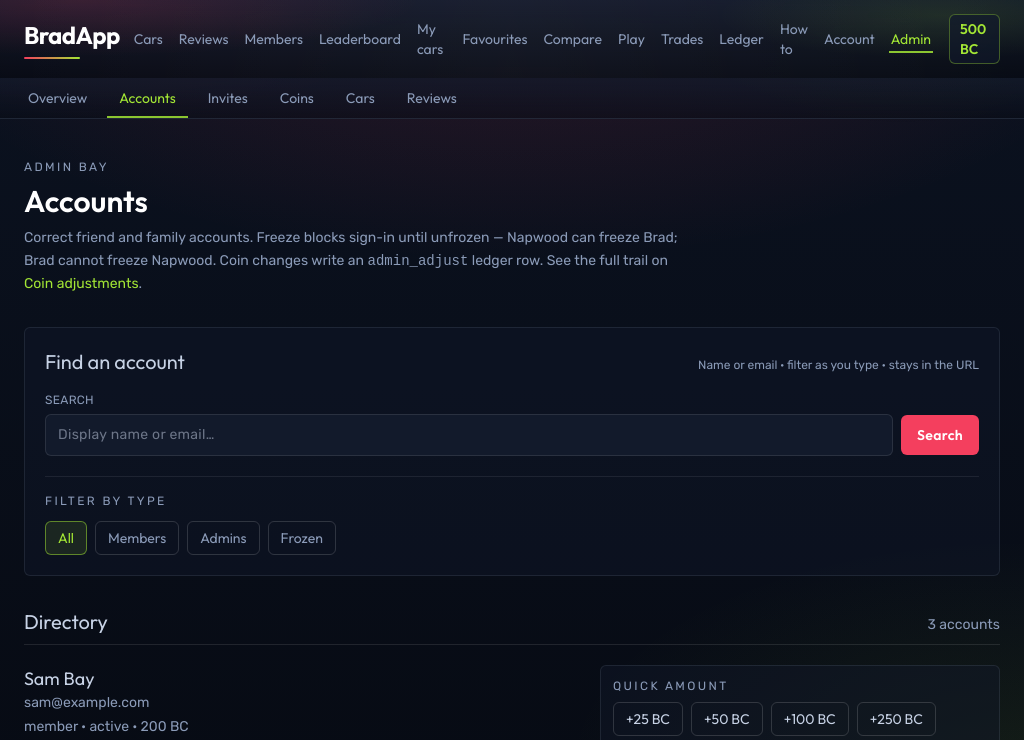
Test: AdminUsersPage accounts search › searches by name/email and filters with type chips
The image size is (1024, 740).
Expected: the heading "Accounts" is shown, [24,182,148,220]
Expected: the heading "Find an account" is shown, [45,348,185,376]
Type "sam" into the search field named "Search accounts by display name or email" at (469,435), box [45,414,893,456]
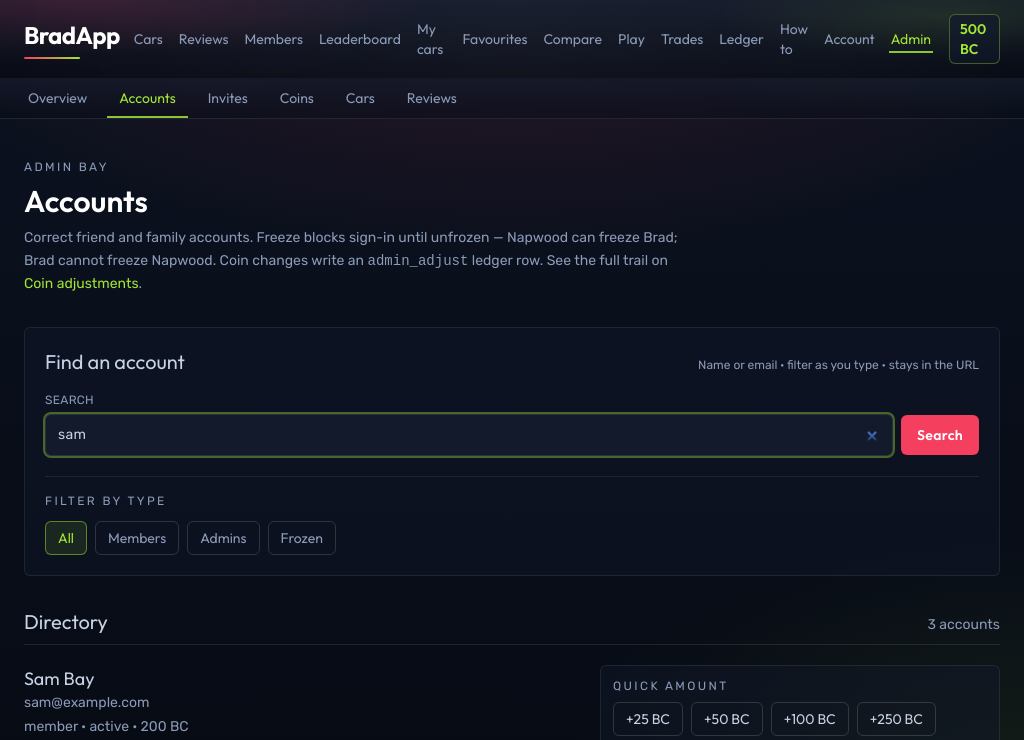
Click the button "Search" at (940,435), box [901,415,979,455]
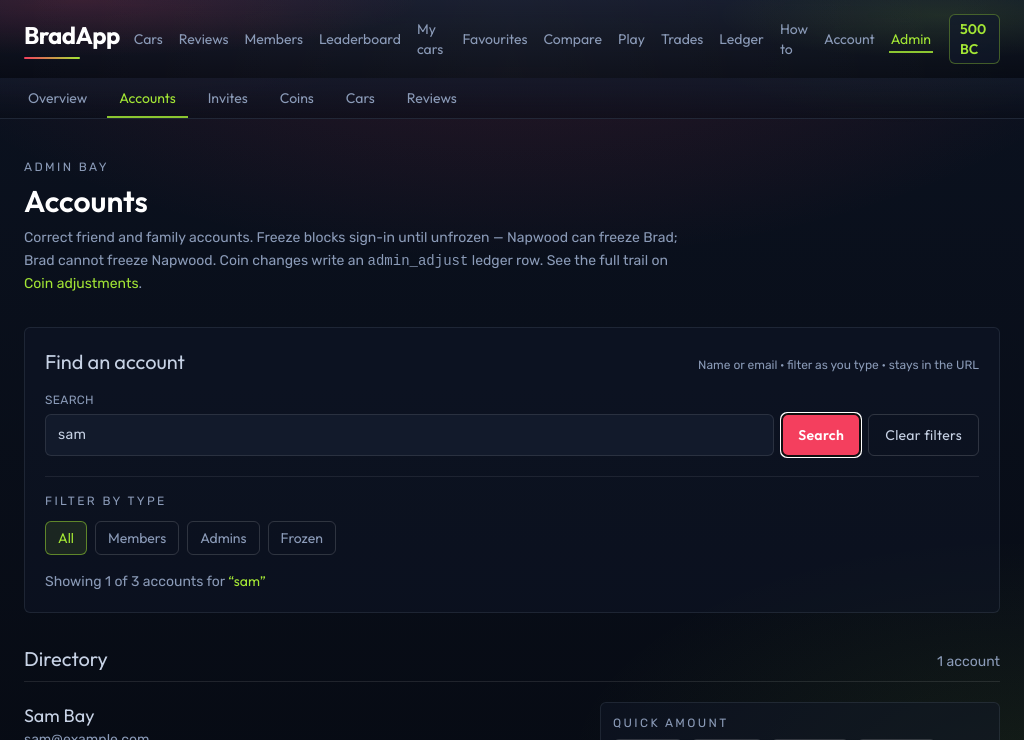
Expected: the text "Sam Bay" is shown, [24,704,94,727]
Click the button "Clear filters" at (924,435), box [868,414,979,456]
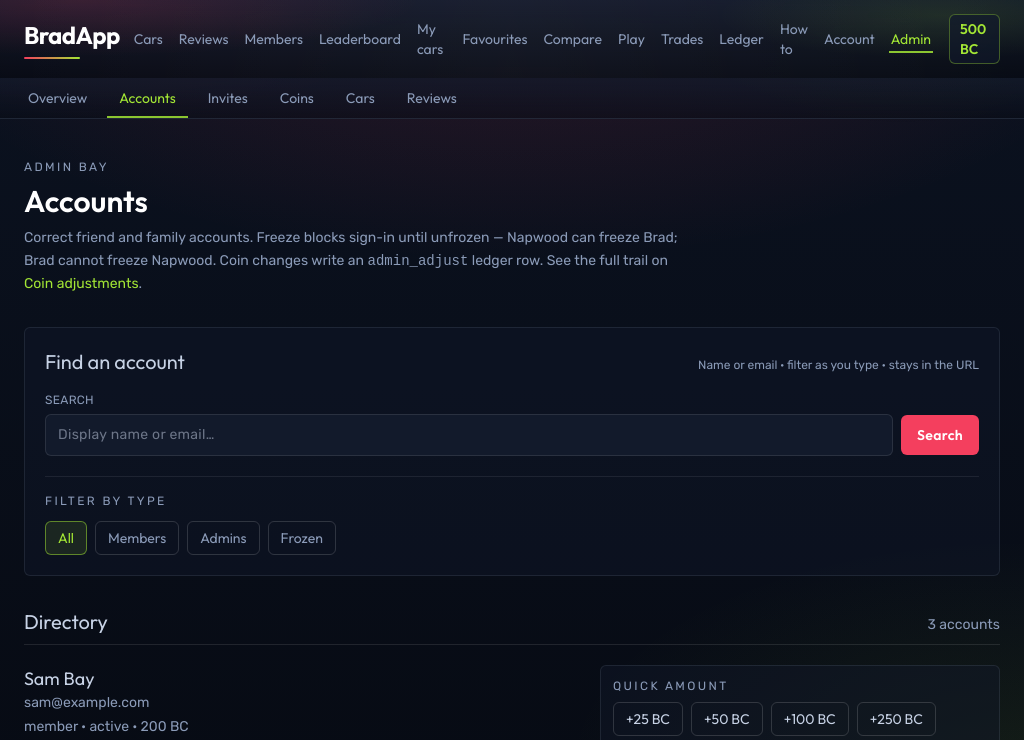
Click the button "Admins" at (223,538), box [187,521,260,555]
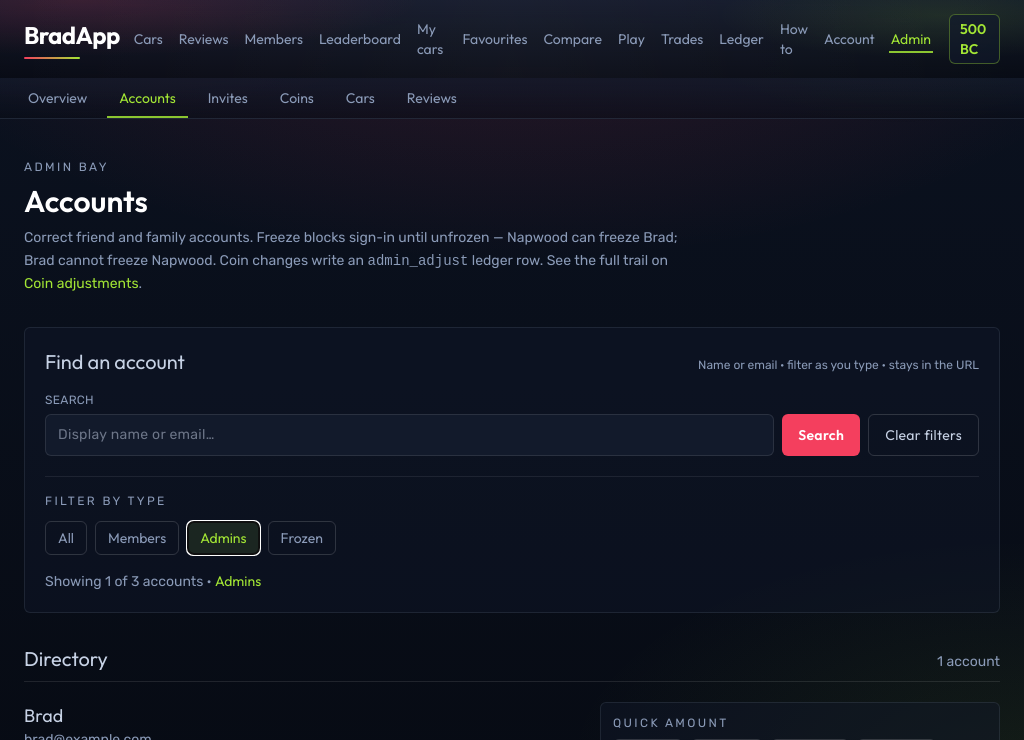
Expected: the text "Brad" is shown, [24,704,63,727]
Expected: the text "Sam Bay" is gone
Click the button "Frozen" at (302,538), box [268,521,336,555]
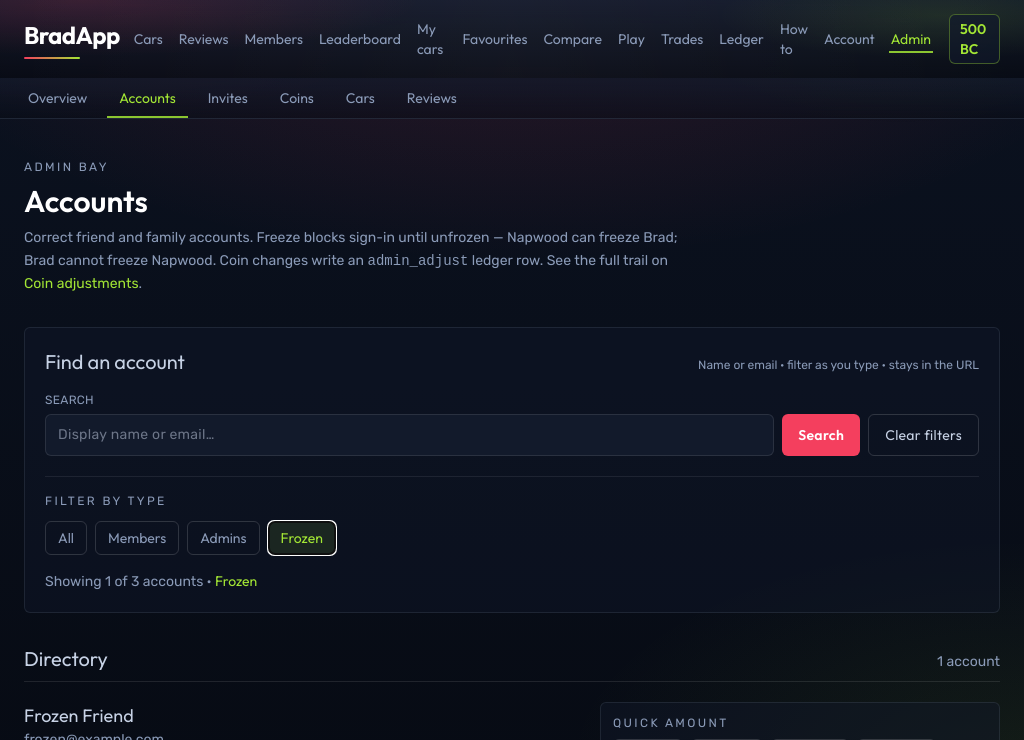
Expected: the text "Frozen Friend" is shown, [24,704,134,727]
